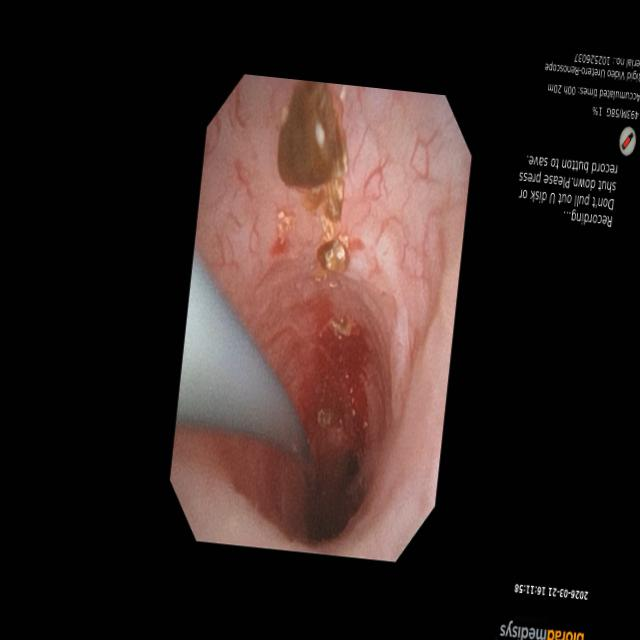stone-new: (277, 82, 347, 223), (317, 238, 349, 273)
